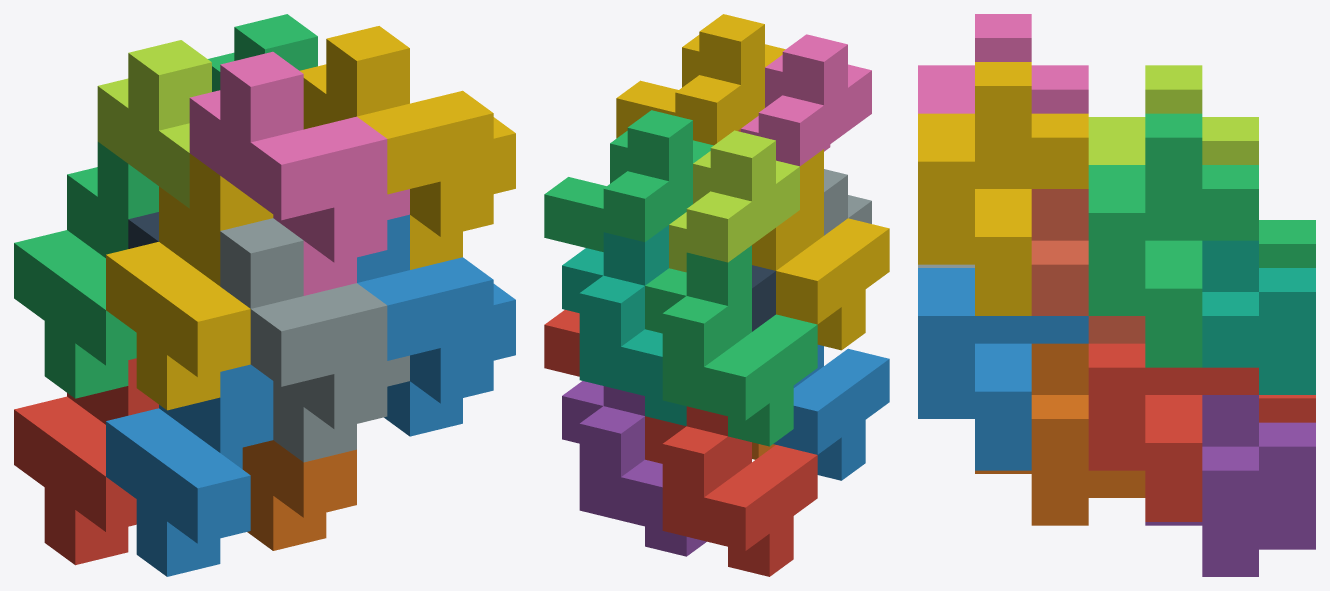
The model's file is tiling.obj.
3 renders of one model, left to right at view 1: azimuth 30°, elevation 25°; view 2: azimuth 150°, elevation 25°; view 3: azimuth 270°, elevation 25°, orthographic. The views are drawn at different scales.
Visible parts, largest first — view 1: copy_2_domain_4, copy_2_domain_2, copy_2_domain_8, copy_1_domain_4, copy_1_domain_2, copy_1_domain_3, copy_2_domain_6, copy_1_domain_1, copy_2_domain_3, copy_1_domain_6, copy_2_domain_7, copy_2_domain_1; view 2: copy_1_domain_3, copy_1_domain_1, copy_1_domain_7, copy_1_domain_4, copy_2_domain_7, copy_1_domain_5, copy_2_domain_3, copy_2_domain_8, copy_2_domain_4, copy_1_domain_2, copy_2_domain_5, copy_2_domain_2 (+1 smaller); view 3: copy_2_domain_7, copy_2_domain_8, copy_2_domain_6, copy_1_domain_5, copy_2_domain_5, copy_1_domain_7, copy_1_domain_6, copy_1_domain_8, copy_2_domain_4, copy_2_domain_3, copy_1_domain_3, copy_1_domain_1.
Boxes of the visible parts, <box> form: copy_2_domain_4: <box>189,51,409,295</box>; copy_2_domain_2: <box>220,218,409,462</box>; copy_2_domain_8: <box>299,26,515,269</box>; copy_1_domain_4: <box>106,153,273,410</box>; copy_1_domain_2: <box>106,364,273,576</box>; copy_1_domain_3: <box>14,142,158,398</box>; copy_2_domain_6: <box>357,214,515,436</box>; copy_1_domain_1: <box>14,358,158,565</box>; copy_2_domain_3: <box>97,40,211,208</box>; copy_1_domain_6: <box>242,440,356,550</box>; copy_2_domain_7: <box>208,14,317,91</box>; copy_2_domain_1: <box>128,212,158,248</box>; copy_1_domain_3: <box>645,245,817,446</box>; copy_1_domain_1: <box>645,406,817,576</box>; copy_1_domain_7: <box>562,225,686,426</box>; copy_1_domain_4: <box>752,149,889,350</box>; copy_2_domain_7: <box>544,110,713,251</box>; copy_1_domain_5: <box>562,381,706,556</box>; copy_2_domain_3: <box>669,130,799,272</box>; copy_2_domain_8: <box>616,14,785,145</box>; copy_2_domain_4: <box>741,34,871,166</box>; copy_1_domain_2: <box>773,344,889,480</box>; copy_2_domain_5: <box>544,310,579,376</box>; copy_2_domain_2: <box>824,169,871,235</box>; copy_2_domain_7: <box>1088,113,1258,367</box>; copy_2_domain_8: <box>918,62,1088,315</box>; copy_2_domain_6: <box>918,268,1088,470</box>; copy_1_domain_5: <box>1145,395,1315,576</box>; copy_2_domain_5: <box>1088,343,1258,521</box>; copy_1_domain_7: <box>1202,240,1315,394</box>; copy_1_domain_6: <box>975,343,1145,525</box>; copy_1_domain_8: <box>1031,189,1145,343</box>; copy_2_domain_4: <box>918,14,1088,113</box>; copy_2_domain_3: <box>1088,65,1258,164</box>; copy_1_domain_3: <box>1259,220,1315,267</box>; copy_1_domain_1: <box>1259,395,1315,422</box>.
Bounding box in the file's own units: 6 × 10 × 7.
